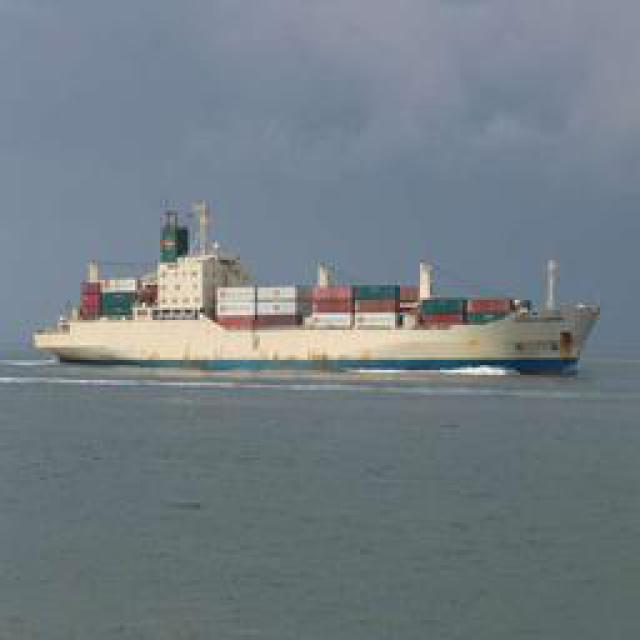Ship: (34, 257, 604, 380)
